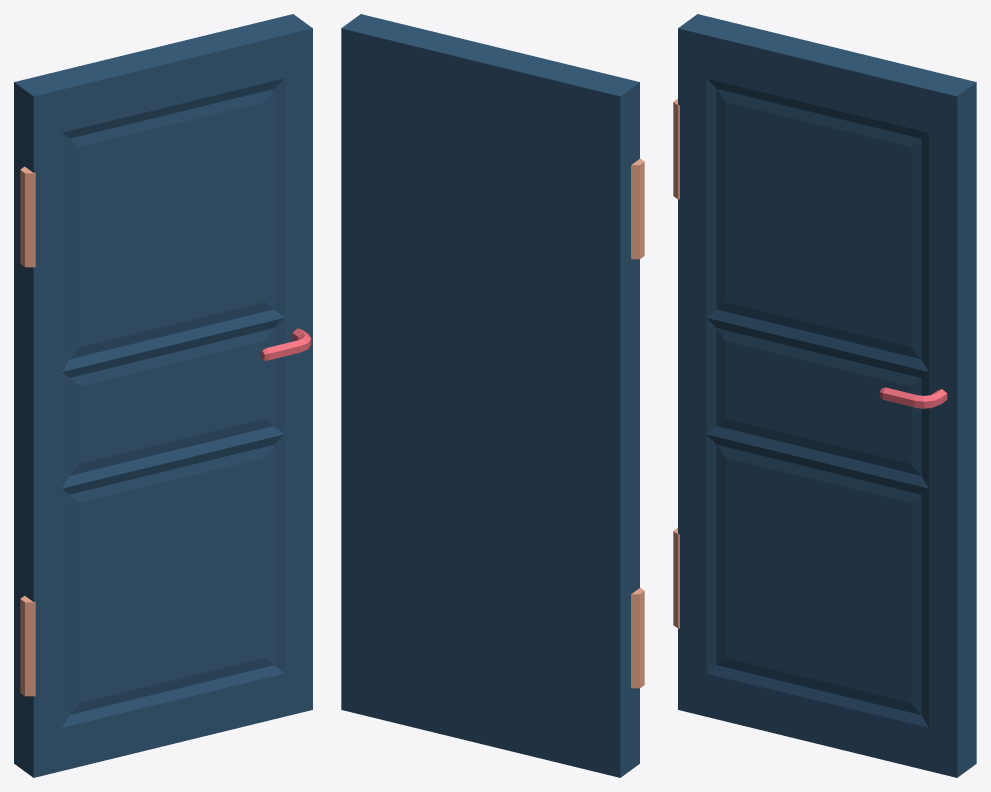
File: door.fbx
The picture shows the model from 3 angles, left to right: view 1: azimuth 30°, elevation 25°; view 2: azimuth 150°, elevation 25°; view 3: azimuth 330°, elevation 25°; orthographic projection.
Parts seen in each view (by area): view 1: Door; view 2: Door; view 3: Door.
Boxes of the visible parts, box(x1,y1,x2,y2) form: Door: box(14, 14, 312, 777); Door: box(341, 14, 644, 777); Door: box(673, 14, 976, 777).
Size of the model in its own units: 92.25 by 210 by 19.71.
1 material, 1 textured.
